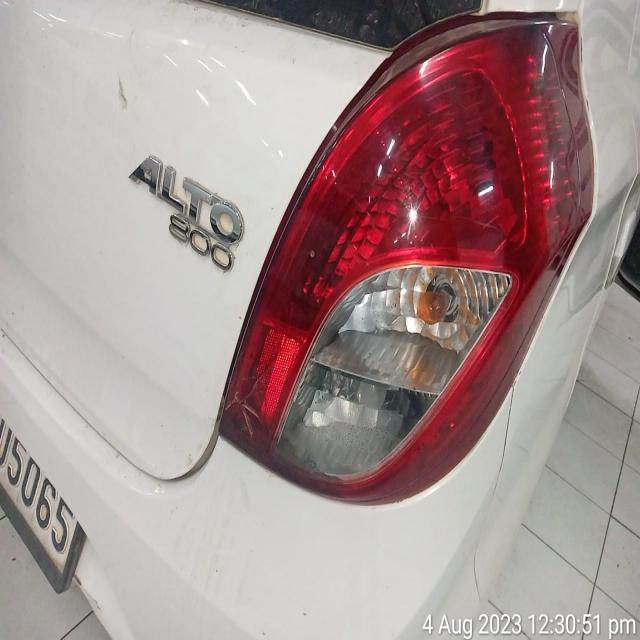damage: (207, 361, 288, 441)
